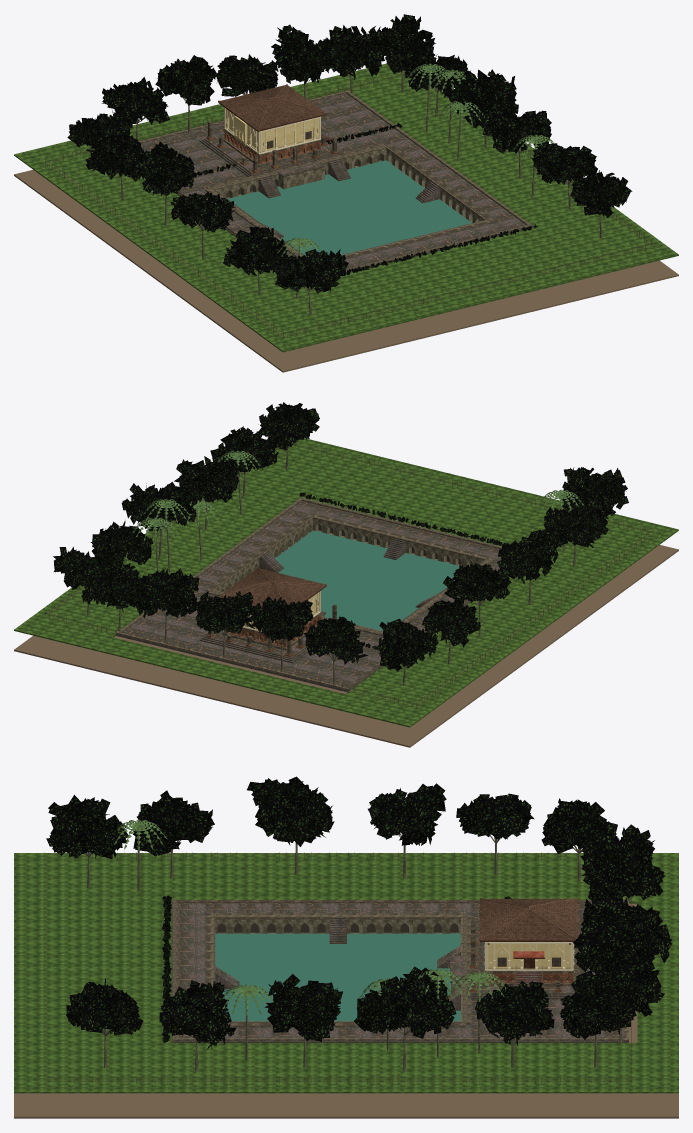
File: Safa-Masjid-Ponda.glb
3 renders of one model, top to bottom at view 1: azimuth 30°, elevation 25°; view 2: azimuth 150°, elevation 25°; view 3: azimuth 270°, elevation 25°, orthographic. The views are drawn at different scales.
Parts seen in each view (by area): view 1: Gardens, Garden broadleaf canopies, Site foundation, Tank water, Courtyard paving, Tank copings, Individual hip roof tile courses, Boundary fence, Court edges, Tank retaining walls, Palm leaflets, Mosque terrace (+5 smaller); view 2: Gardens, Garden broadleaf canopies, Site foundation, Courtyard paving, Tank water, Boundary fence, Tank copings, Tank retaining walls, Court edges, Individual hip roof tile courses, Palm leaflets, Mosque terrace (+4 smaller); view 3: Gardens, Garden broadleaf canopies, Site foundation, Tank water, Courtyard paving, Individual hip roof tile courses, Tank copings, Court edges, Boundary fence, Tank retaining walls, Palm leaflets, Tank steps (+7 smaller).
Boxes of the visible parts, bbox=[...] form: Gardens: bbox=[14, 63, 678, 352]; Garden broadleaf canopies: bbox=[67, 14, 632, 293]; Site foundation: bbox=[14, 170, 678, 372]; Tank water: bbox=[228, 160, 471, 258]; Courtyard paving: bbox=[140, 94, 533, 273]; Tank copings: bbox=[205, 143, 494, 258]; Individual hip roof tile courses: bbox=[219, 85, 325, 130]; Boundary fence: bbox=[45, 71, 653, 338]; Court edges: bbox=[138, 90, 533, 271]; Tank retaining walls: bbox=[215, 148, 483, 222]; Palm leaflets: bbox=[277, 63, 553, 256]; Mosque terrace: bbox=[199, 134, 341, 176]; Gardens: bbox=[14, 438, 678, 727]; Garden broadleaf canopies: bbox=[53, 402, 628, 671]; Site foundation: bbox=[14, 545, 678, 747]; Courtyard paving: bbox=[115, 501, 501, 692]; Tank water: bbox=[275, 530, 463, 630]; Boundary fence: bbox=[45, 442, 653, 708]; Tank copings: bbox=[205, 513, 494, 636]; Tank retaining walls: bbox=[216, 518, 483, 592]; Court edges: bbox=[115, 497, 507, 690]; Individual hip roof tile courses: bbox=[219, 568, 325, 607]; Palm leaflets: bbox=[132, 450, 583, 542]; Mosque terrace: bbox=[199, 619, 322, 663]; Gardens: bbox=[14, 853, 678, 1093]; Garden broadleaf canopies: bbox=[46, 776, 672, 1049]; Site foundation: bbox=[14, 903, 678, 1118]; Tank water: bbox=[215, 933, 460, 1021]; Courtyard paving: bbox=[172, 901, 628, 1042]; Individual hip roof tile courses: bbox=[480, 898, 578, 940]; Tank copings: bbox=[205, 913, 470, 1027]; Court edges: bbox=[173, 899, 628, 1041]; Boundary fence: bbox=[44, 852, 631, 1084]; Tank retaining walls: bbox=[215, 919, 460, 933]; Palm leaflets: bbox=[114, 819, 506, 1015]; Tank steps: bbox=[215, 917, 460, 1010].
Bounding box in the file's own units: 68 × 15.54 × 80.
Materials: 18 (12 with a texture image).
